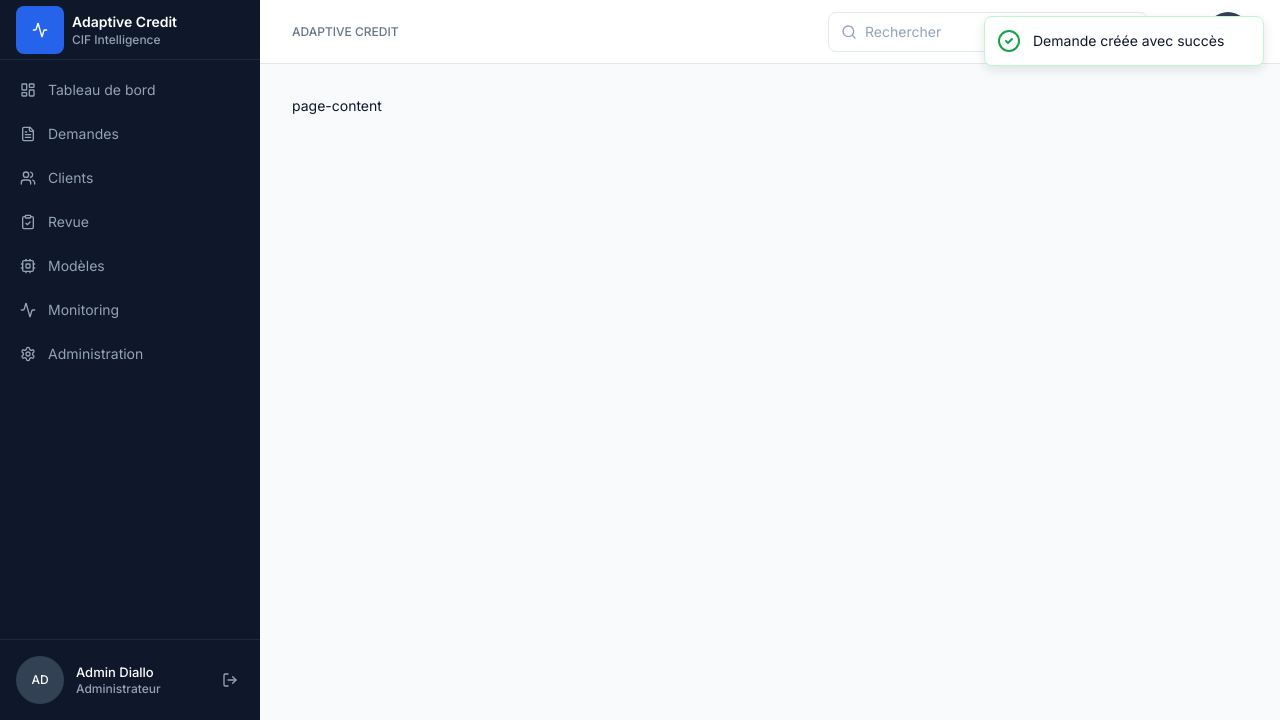
Test: AppLayout › renders and dismisses toasts from the toast store
Expected: the text "Demande créée avec succès" is shown, [1033,31,1224,51]
Click the button "Demande créée avec succès" at (1124, 41), box [984,16,1264,66]
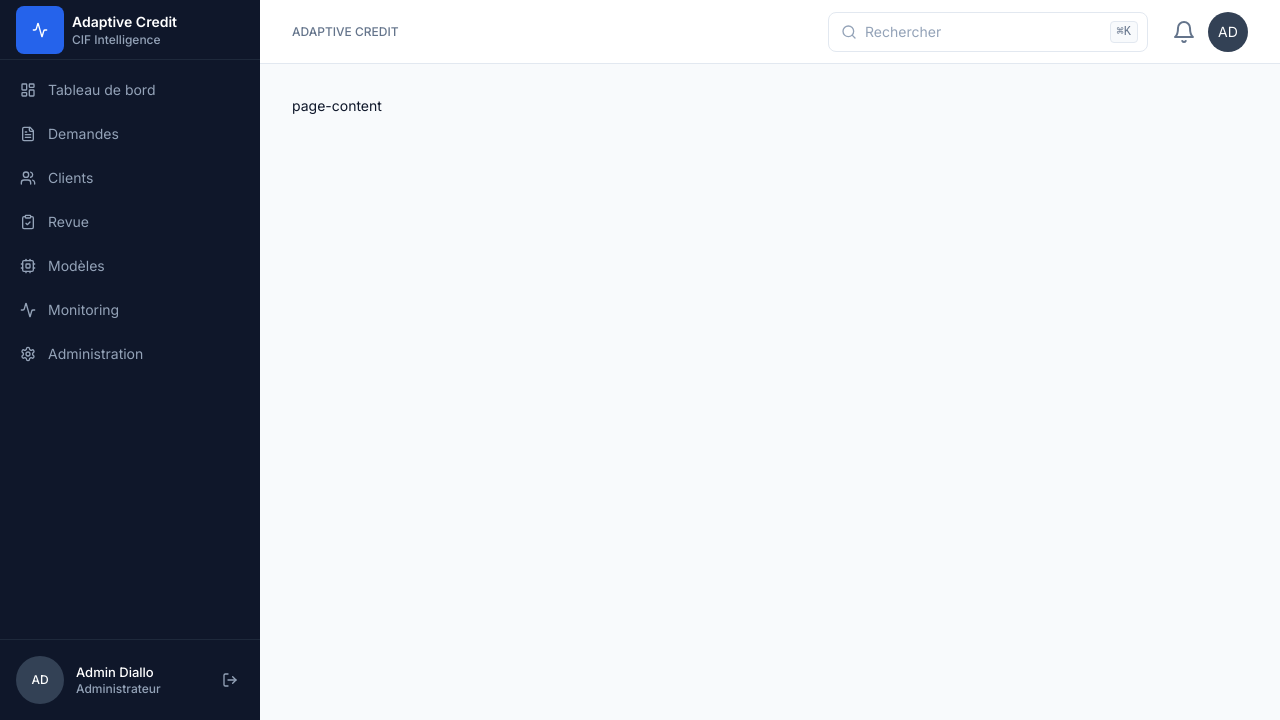
Now the button "Demande créée avec succès" is gone
